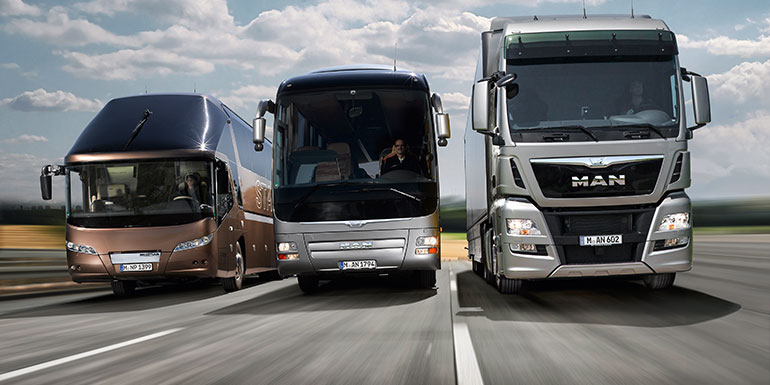bus: (58, 89, 260, 294), (267, 65, 445, 297)
truck: (462, 12, 699, 299)
